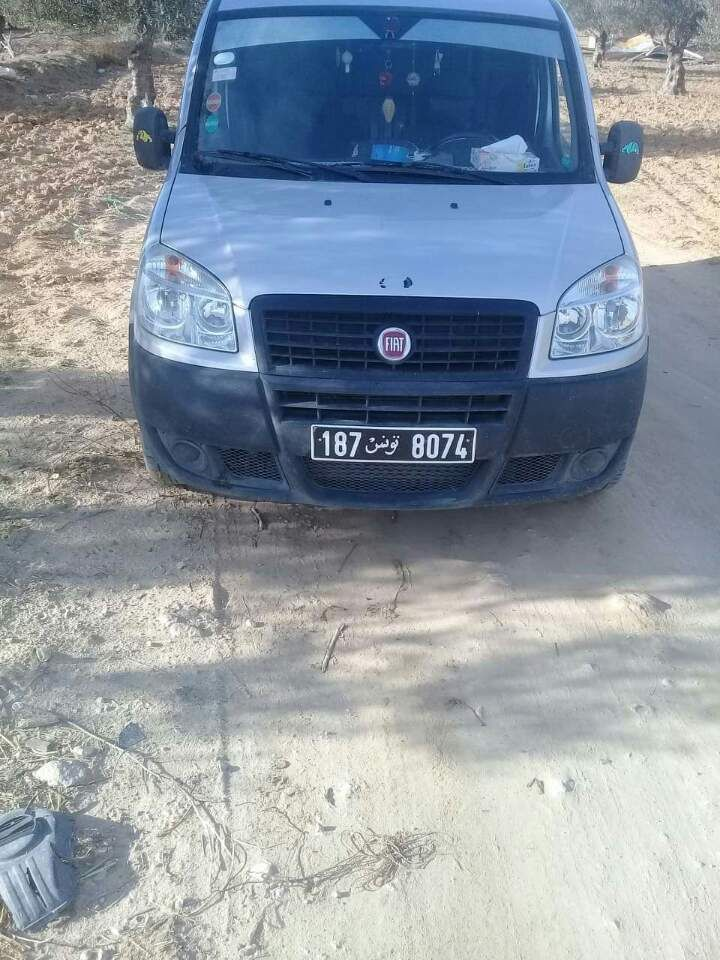LP: (306, 424, 479, 464)
